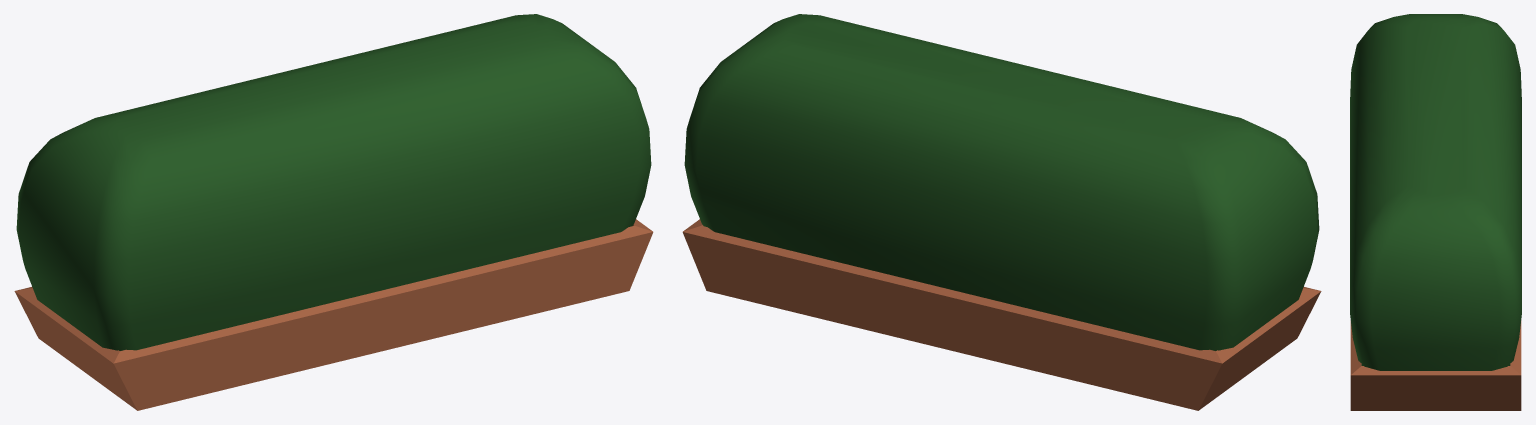
Rendered from object_B1_Plants_003.glb.
3 views of the same model, side by side, from view 1: azimuth 30°, elevation 25°; view 2: azimuth 150°, elevation 25°; view 3: azimuth 270°, elevation 25° (orthographic). The views are drawn at different scales.
Parts seen in each view (by area): view 1: B1 Plants.003; view 2: B1 Plants.003; view 3: B1 Plants.003.
Part boxes in pixels (<box>): B1 Plants.003: <box>14,14,653,410</box>; B1 Plants.003: <box>682,14,1321,410</box>; B1 Plants.003: <box>1350,14,1521,410</box>.
Bounding box in the file's own units: 0.647 × 0.2603 × 0.2018.
